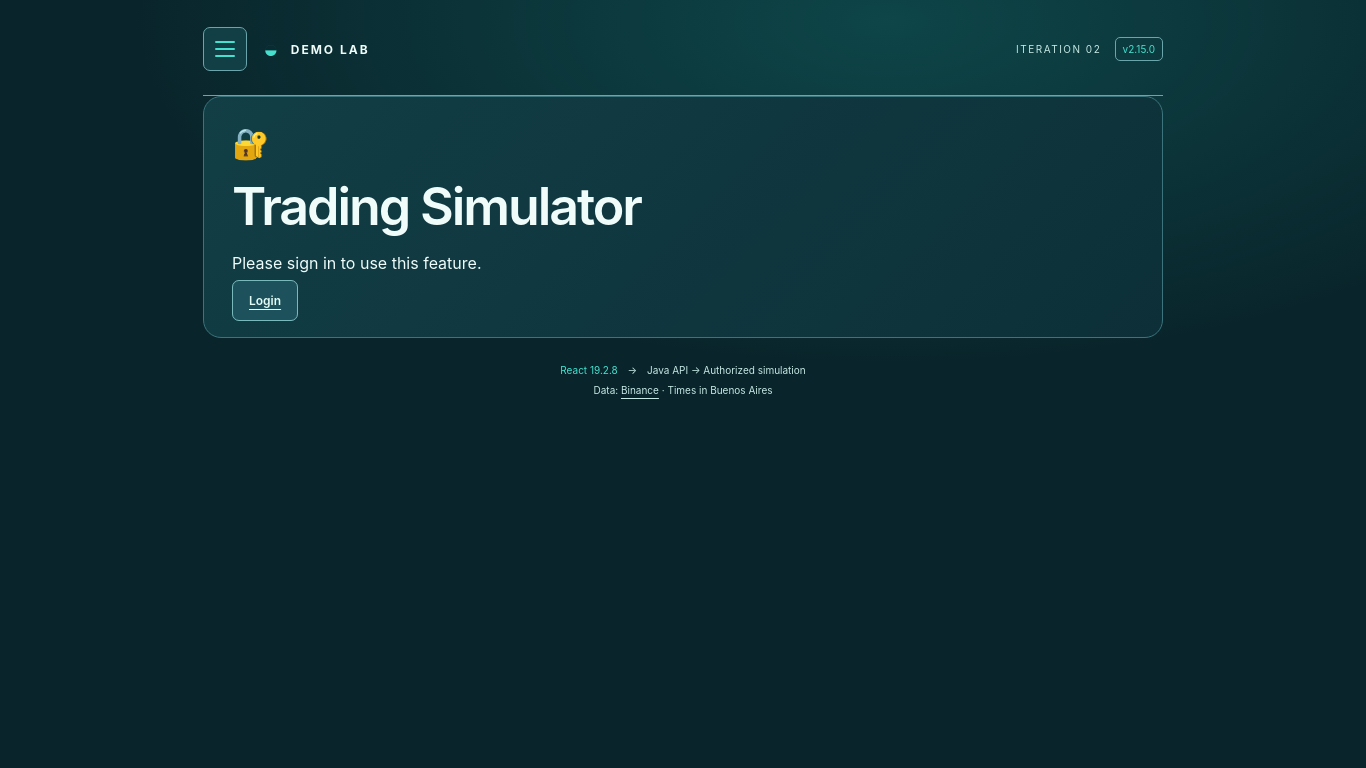
Test: anonymous direct entry shows login icon and never mounts or reads simulator
This screenshot has width=1366, height=768.
Expected: the text "Please sign in to use this feature." is shown, left=232, top=253, right=482, bottom=273
Expected: the picture named "Login" is shown, left=232, top=125, right=269, bottom=161
Click the button named "Menu": (225, 49) left=203, top=27, right=247, bottom=71
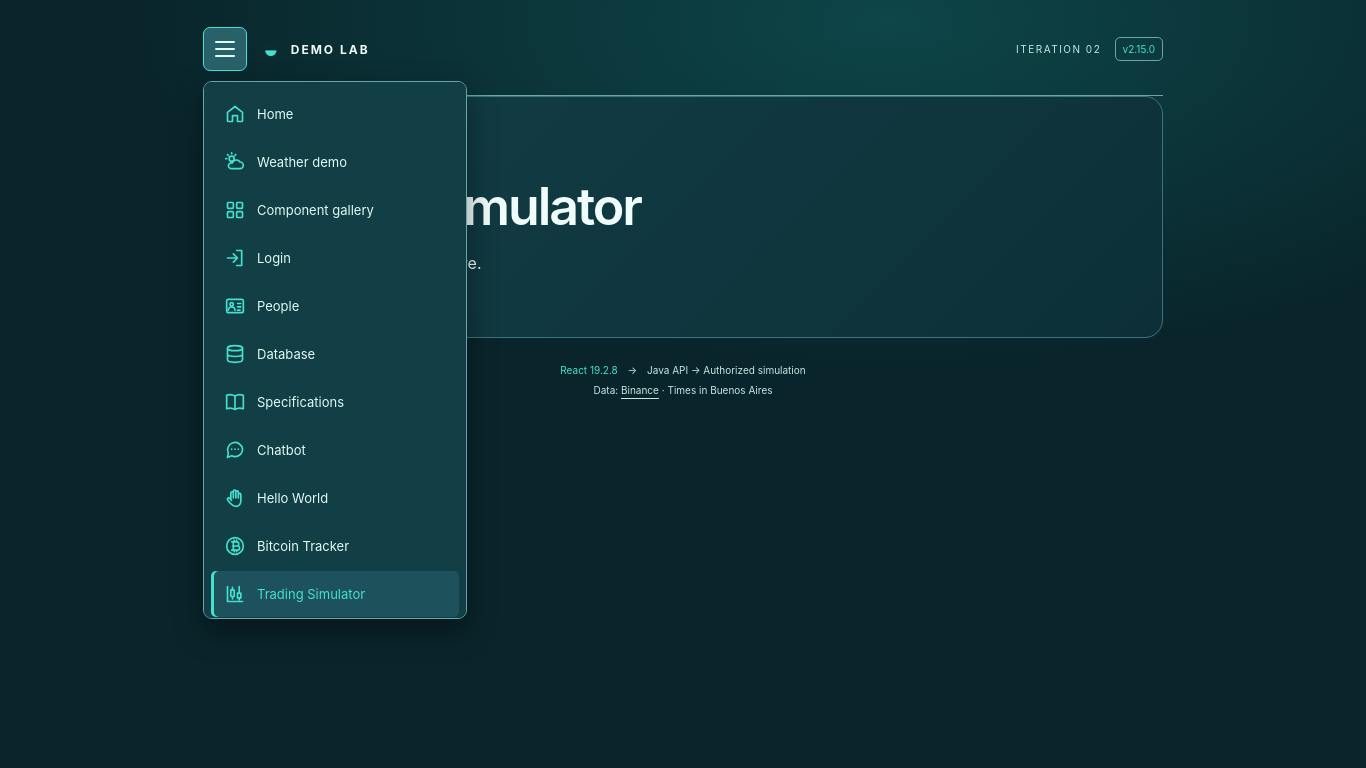
Now the link "Bitcoin Tracker" is shown, box left=225, top=536, right=349, bottom=556
Now the link "Trading Simulator" is shown, box left=211, top=571, right=459, bottom=617
